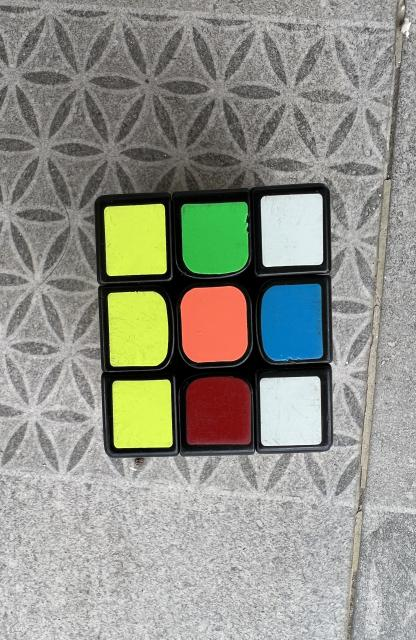Blue: (261, 284, 323, 361)
Green: (181, 201, 248, 275)
Orange: (181, 286, 248, 362)
Red: (186, 376, 251, 445)
White: (261, 194, 324, 268), (260, 376, 322, 446)
Yellow: (107, 291, 168, 366), (104, 204, 167, 276), (112, 380, 172, 449)
